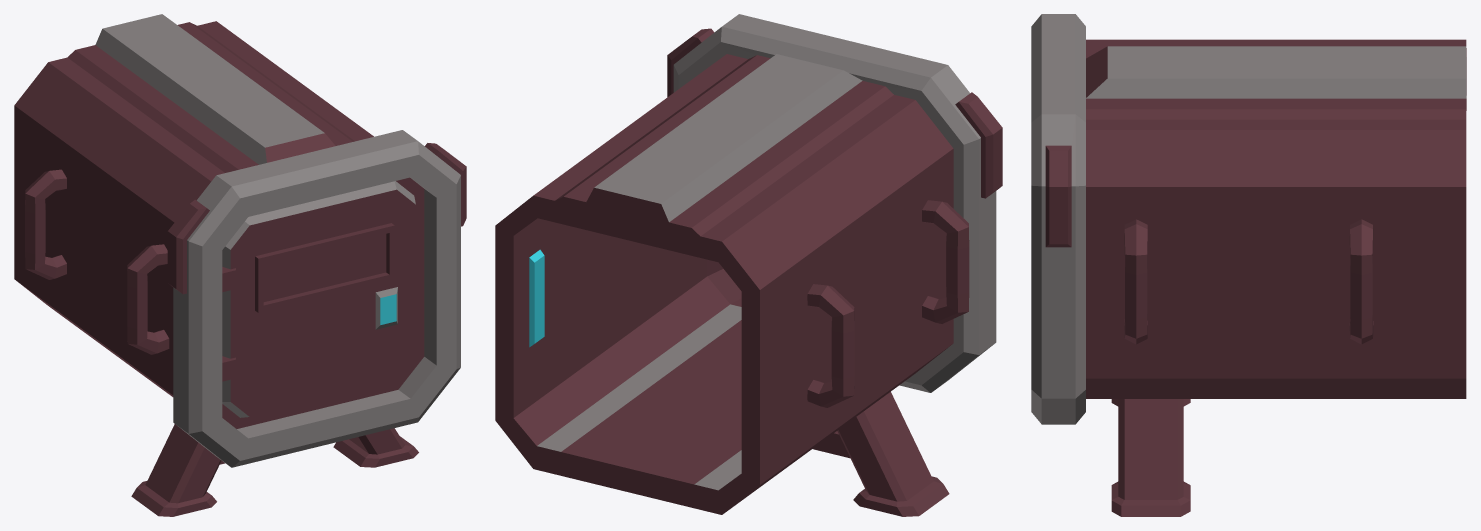
The model's file is scifi-planet-base-hall-start.fbx.
The picture shows the model from 3 angles, left to right: view 1: azimuth 30°, elevation 25°; view 2: azimuth 150°, elevation 25°; view 3: azimuth 270°, elevation 25°; orthographic projection. The views are drawn at different scales.
Parts seen in each view (by area): view 1: scifi-planet-base-hall-start; view 2: scifi-planet-base-hall-start; view 3: scifi-planet-base-hall-start.
Boxes of the visible parts, left/top/right/bottom form: scifi-planet-base-hall-start: left=14, top=14, right=466, bottom=516; scifi-planet-base-hall-start: left=495, top=14, right=1002, bottom=516; scifi-planet-base-hall-start: left=1031, top=14, right=1466, bottom=516.
Bounding box in the file's own units: 3.63 × 3.9 × 4.
